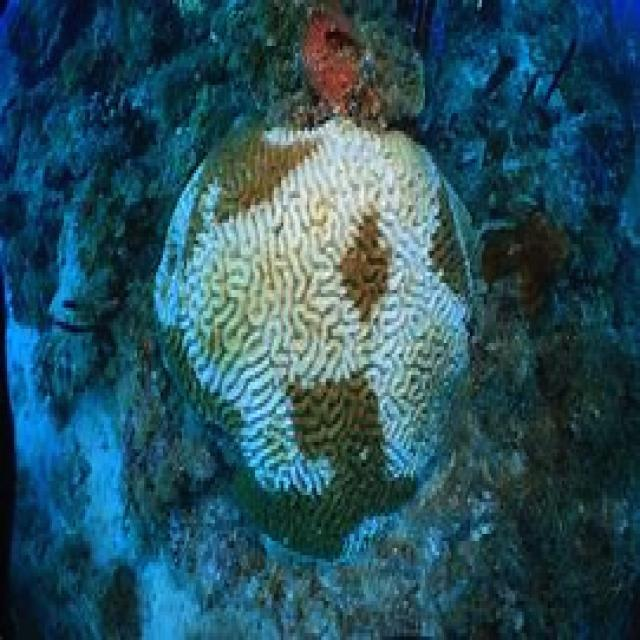Coral: (152, 113, 480, 560)
